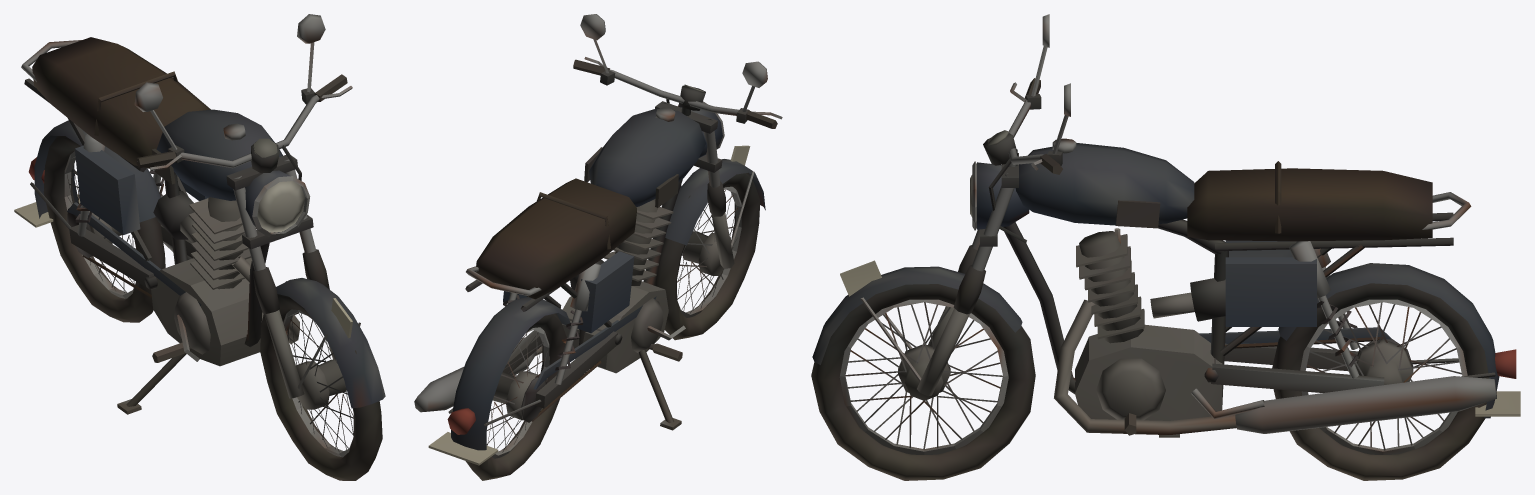
The model's file is scooter_motorcycle_v2_b.glb.
The picture shows the model from 3 angles, left to right: view 1: azimuth 30°, elevation 25°; view 2: azimuth 150°, elevation 25°; view 3: azimuth 270°, elevation 25°; orthographic projection. The views are drawn at different scales.
Visible parts, largest first — view 1: hb_metal, hb_main; view 2: hb_metal, hb_main; view 3: hb_metal, hb_main.
Boxes of the visible parts, left/top/right/bottom form: hb_metal: left=14, top=14, right=385, bottom=457; hb_main: left=28, top=37, right=382, bottom=480; hb_metal: left=414, top=14, right=782, bottom=465; hb_main: left=447, top=59, right=777, bottom=480; hb_metal: left=812, top=14, right=1520, bottom=454; hb_main: left=811, top=78, right=1516, bottom=480.
Bounding box in the file's own units: 0.7617 × 1.33 × 2.02.
